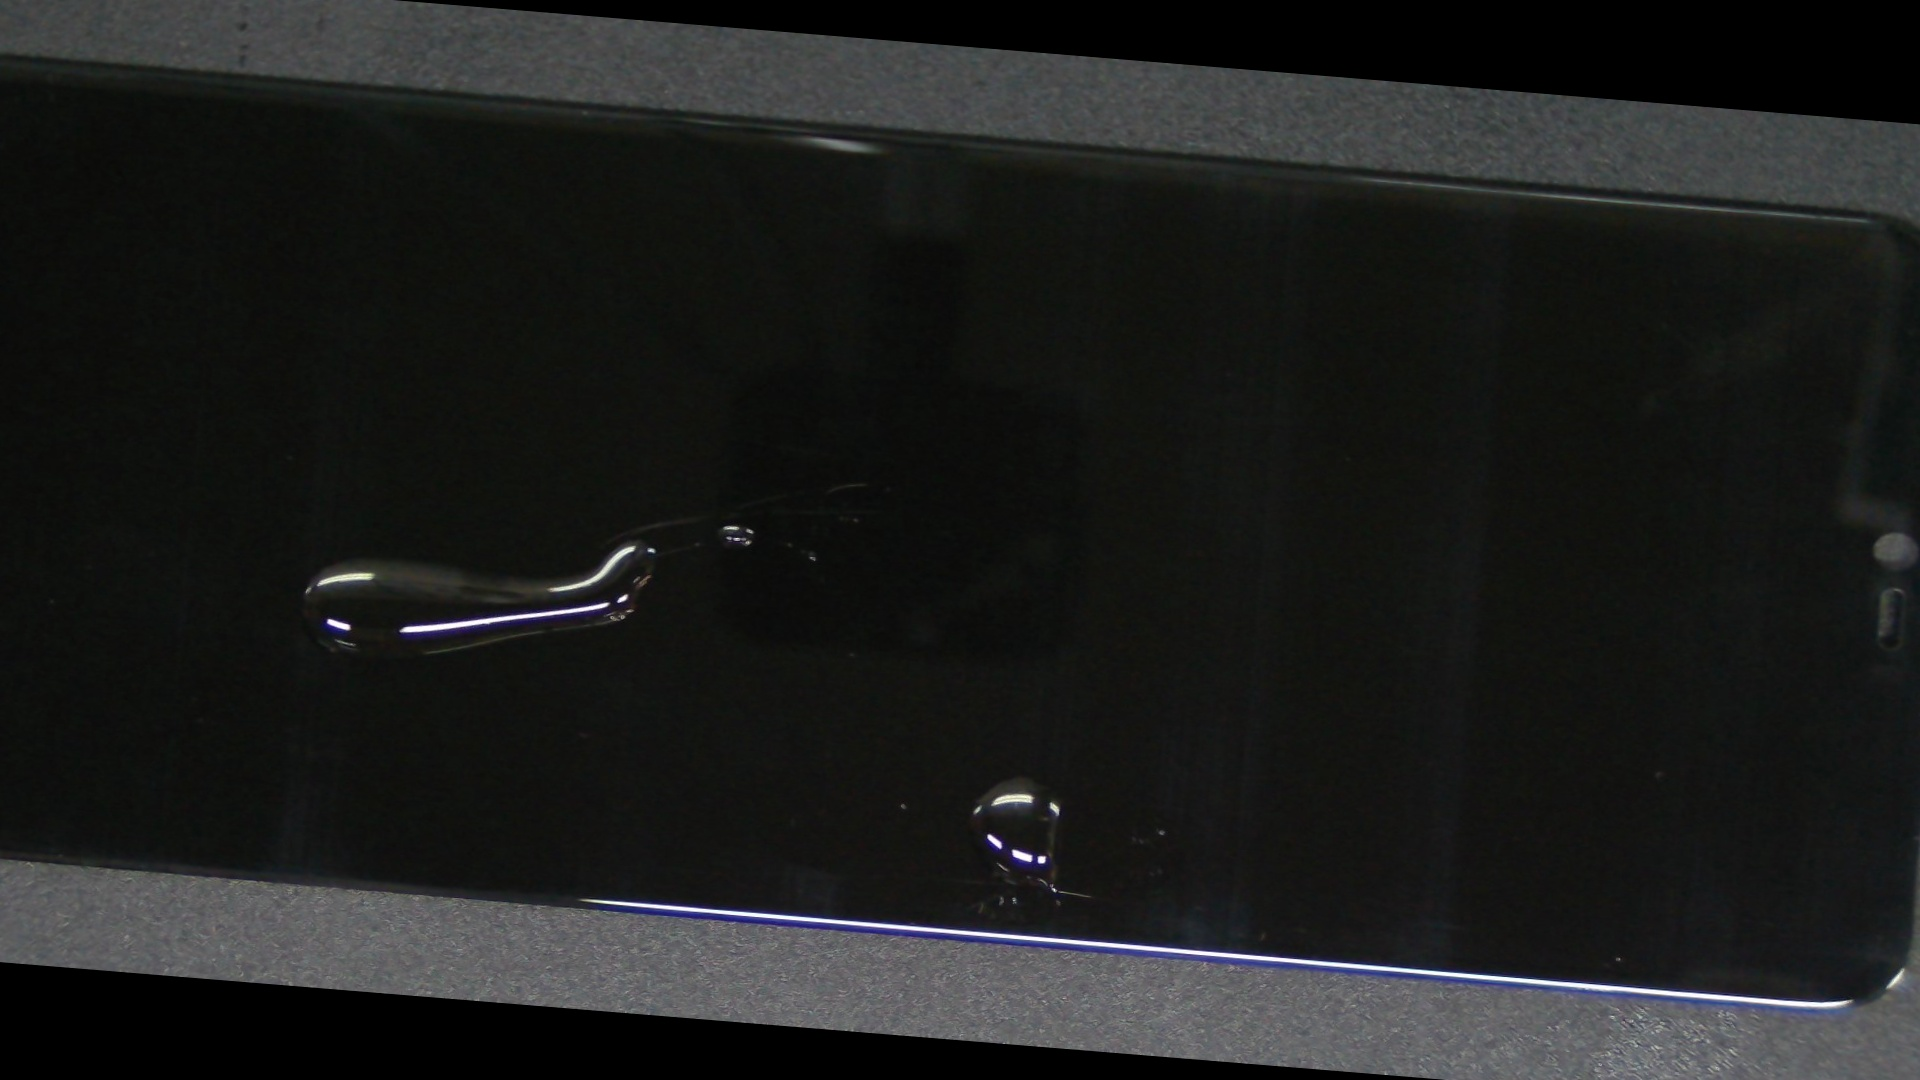oil: (378, 365, 1673, 1080), (245, 239, 1224, 810), (194, 247, 1077, 832)
